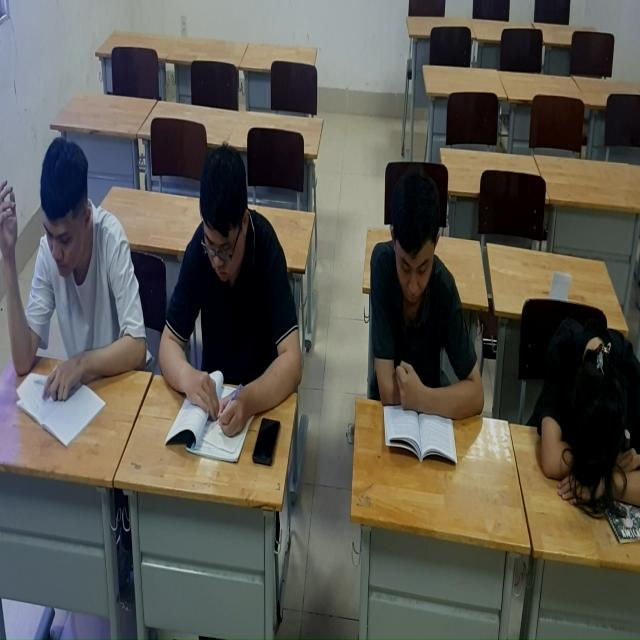raise_hand: (2, 137, 143, 451)
read: (151, 140, 305, 478), (367, 149, 486, 482)
sleep: (530, 295, 640, 530)
